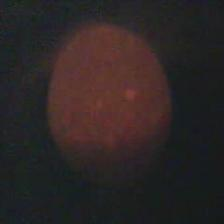fertile: (45, 22, 171, 187)
